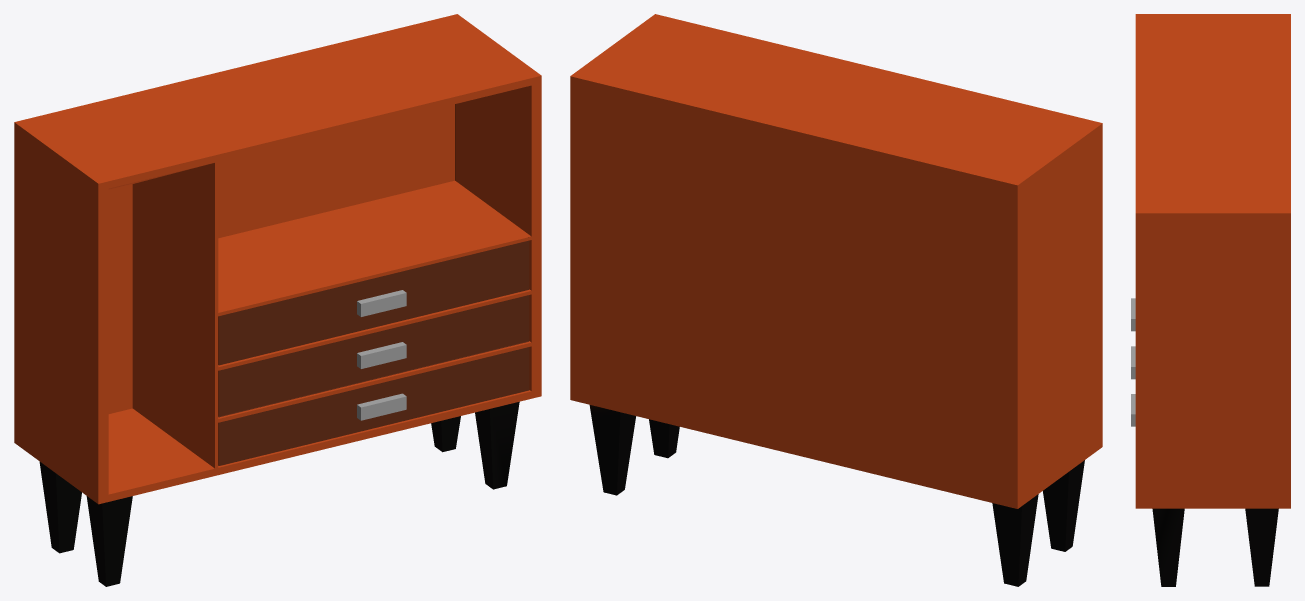
The model's file is Colored Dresser (2).fbx.
3 renders of one model, left to right at view 1: azimuth 30°, elevation 25°; view 2: azimuth 150°, elevation 25°; view 3: azimuth 270°, elevation 25°, orthographic. The views are drawn at different scales.
Parts seen in each view (by area): view 1: pCube1, pCube2, pCube4, pCube3, pCube6, pCube5, pCube7; view 2: pCube1; view 3: pCube1.
Part boxes in pixels (x1,y1,x2,y2): pCube1: (14,14,541,586); pCube2: (218,240,529,365); pCube4: (218,295,529,416); pCube3: (218,341,529,465); pCube6: (357,393,406,420); pCube5: (357,290,406,316); pCube7: (357,342,406,368); pCube1: (570,14,1102,586); pCube1: (1135,14,1290,586).
Bounding box in the file's own units: 5.81 × 5.21 × 1.97.
Materials: 3 (2 with a texture image).
